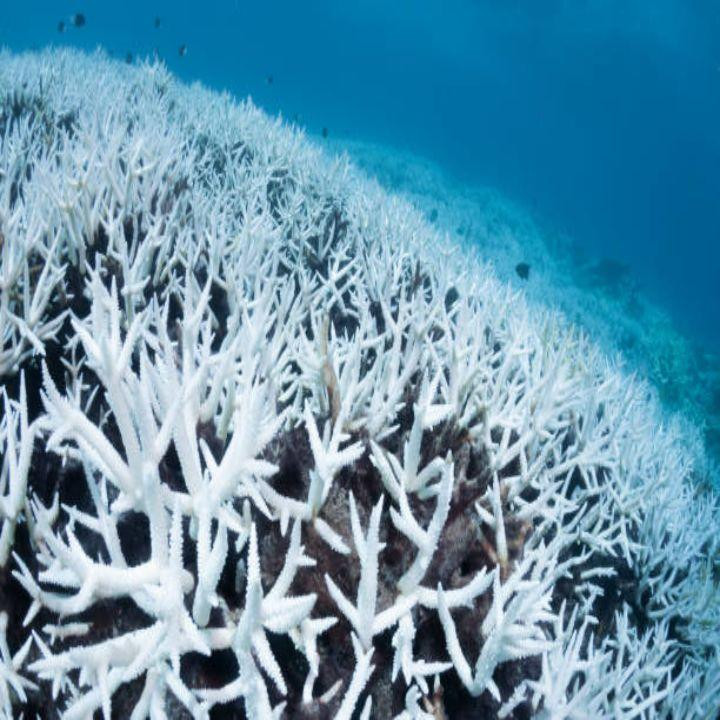Bleached disease: (15, 71, 684, 703)
